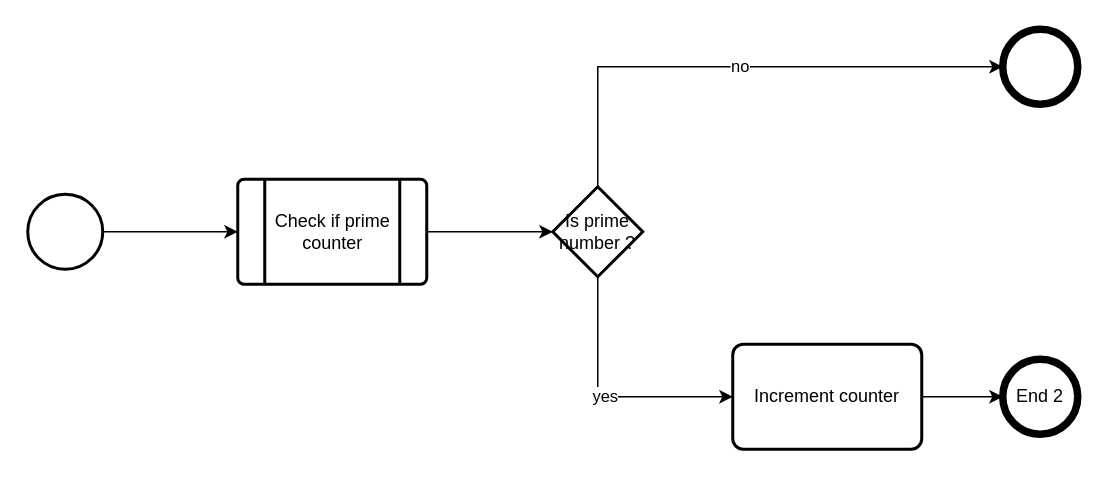
The diagram is 1107 pixels wide and 477 high, and some of its shapes have lost their labels. Here are the shapes that lost their labels. From the top down, the centre of each, then its label:
point (1039, 66): End 1
point (65, 231): Start
